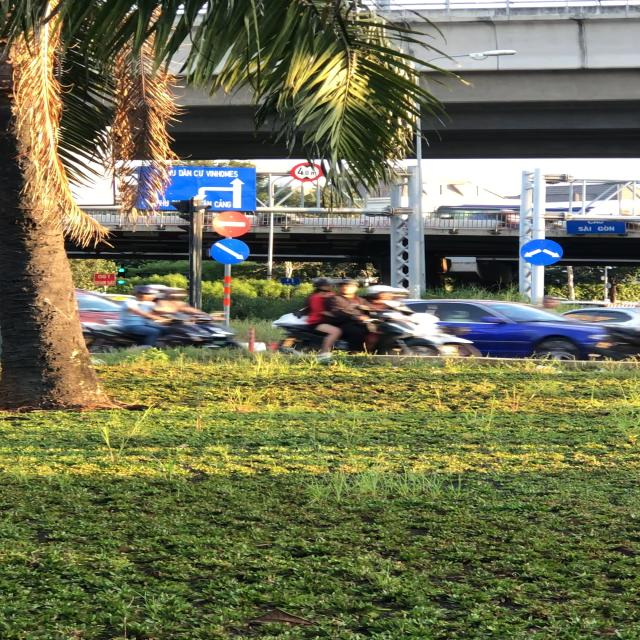Bien bao cam di nguoc chieu: (208, 210, 254, 239)
Bien bao han che chieu cao: (289, 162, 326, 182)
Bien bao huong phai di vong chuong ngai vat: (520, 236, 567, 267), (206, 237, 250, 267)
